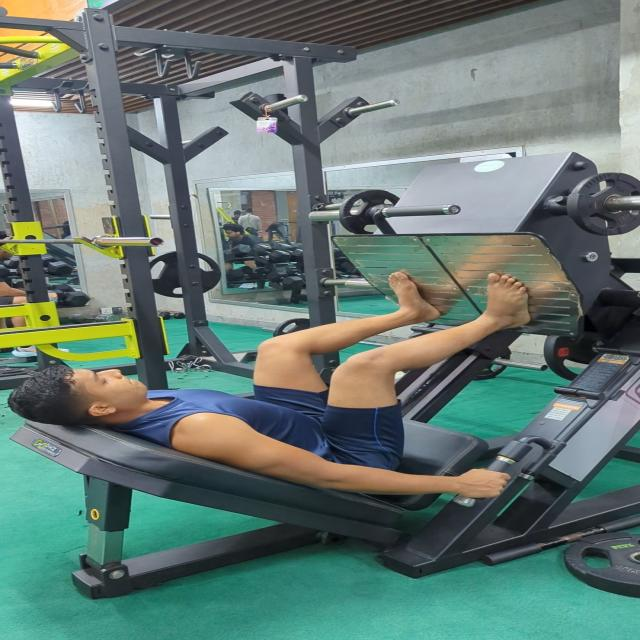Normal_LegPress: (9, 262, 542, 522)
